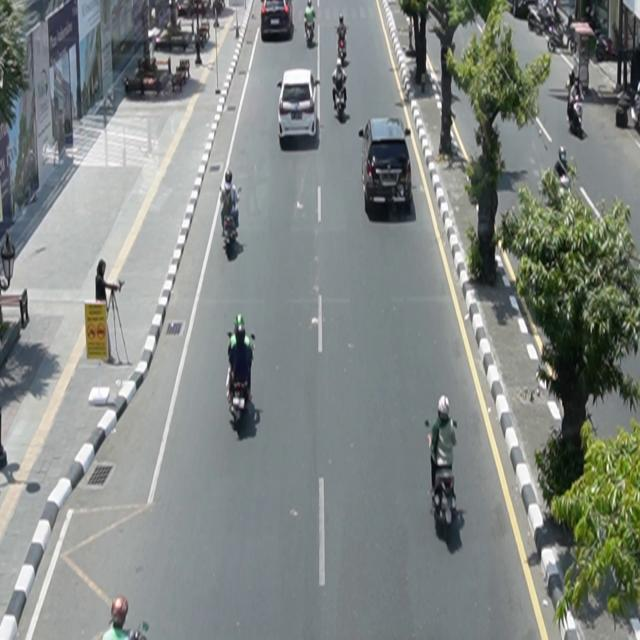car: (360, 116, 414, 215), (277, 68, 320, 141), (261, 1, 293, 42)
